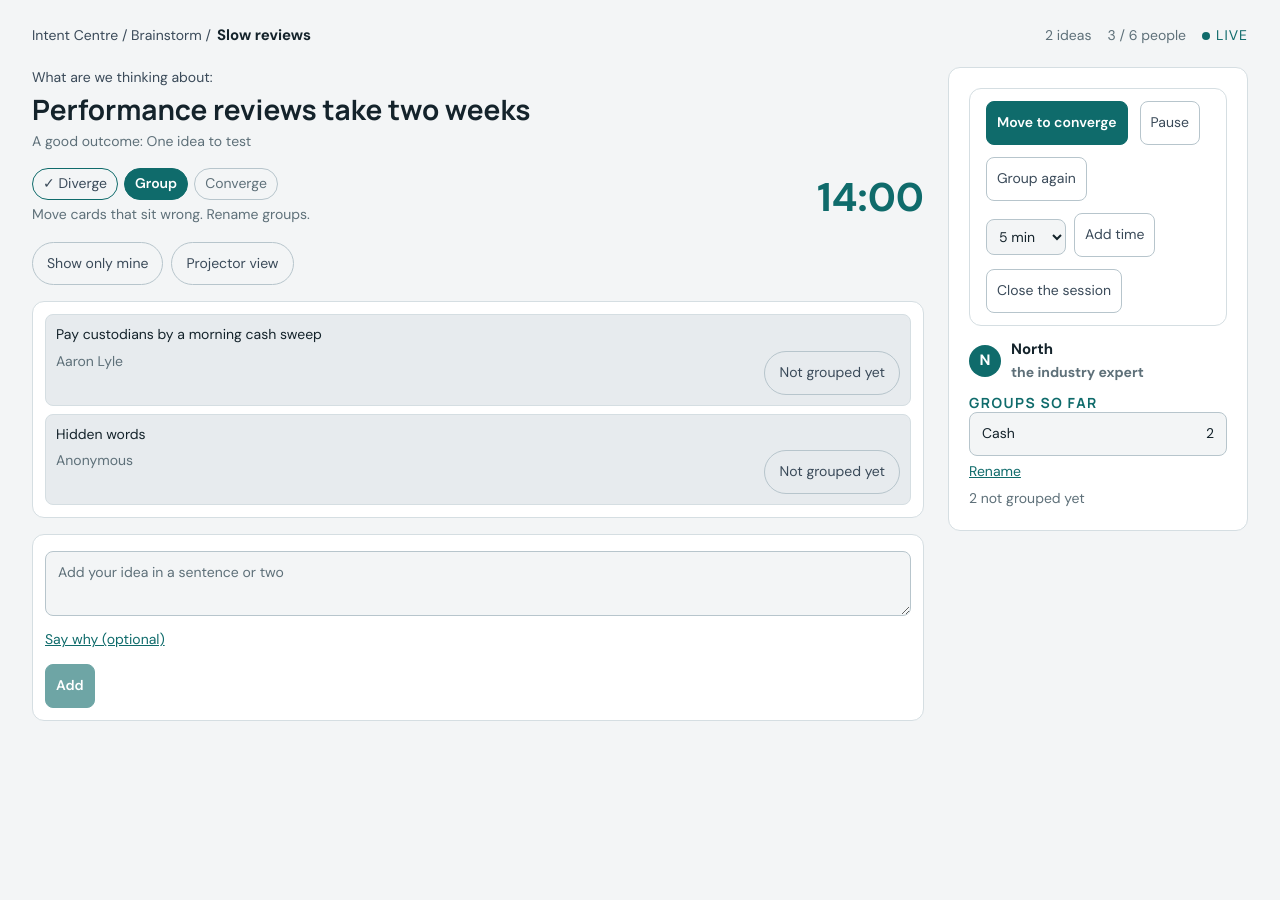
Test case: live session › the projector shows the count and group names and no idea text
Click the button "Projector view" at {"x": 232, "y": 263}, box [171, 242, 294, 285]
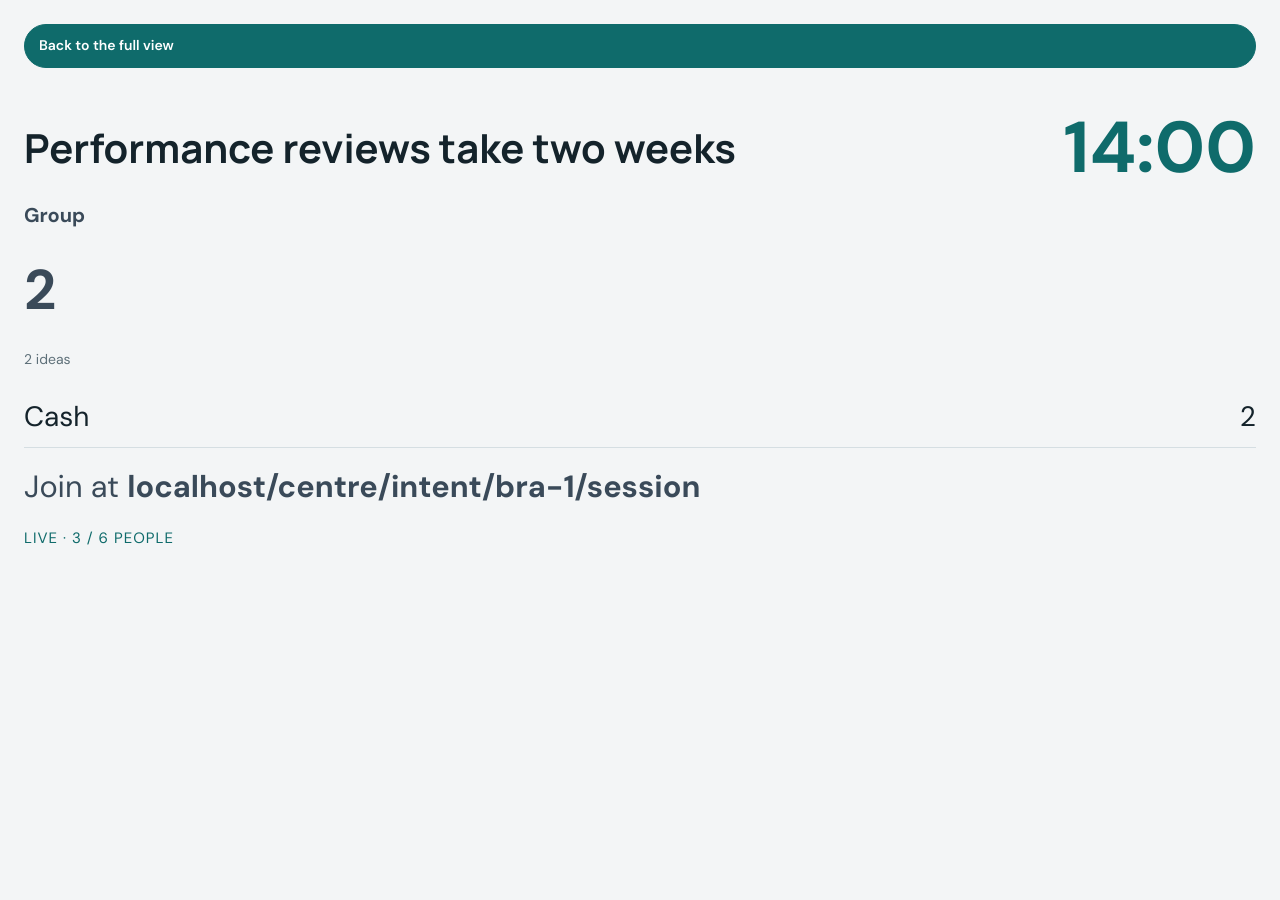
expect the text with test id "idea-count" reads "2": met, box [24, 253, 56, 326]
expect the element with test id "join-box" shows "/centre/intent/bra-1/session": met, box [24, 467, 700, 507]
expect the button "Pay custodians by a morning cash sweep" is gone: met
